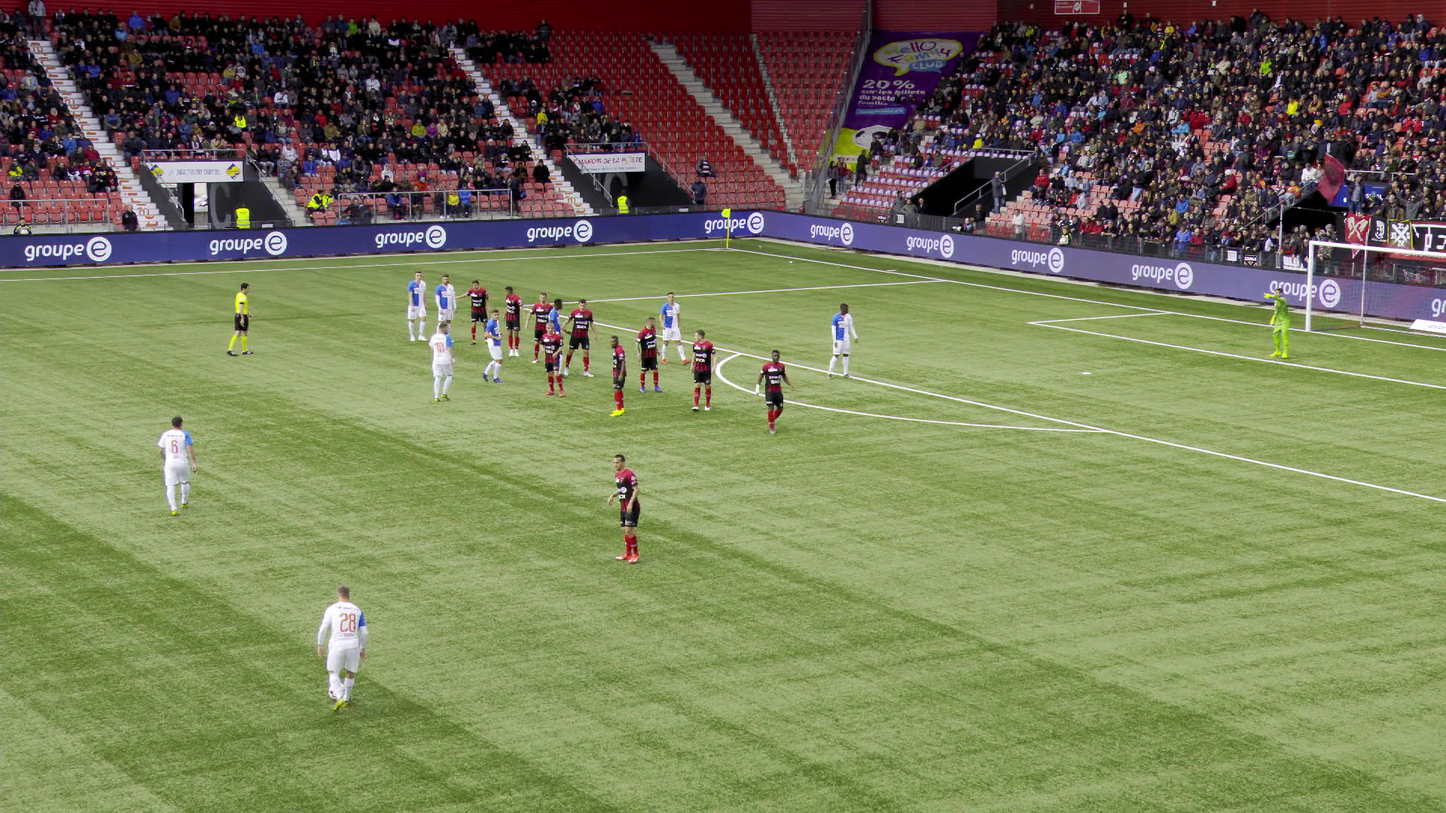ball: (328, 681, 343, 697)
player: (316, 587, 368, 711), (157, 414, 197, 513), (607, 453, 642, 563), (755, 349, 793, 434), (559, 297, 599, 377), (453, 279, 490, 345), (687, 329, 716, 411), (825, 303, 856, 379), (428, 322, 456, 402), (526, 291, 555, 362), (635, 316, 662, 392), (501, 285, 528, 356), (659, 291, 685, 363), (1263, 287, 1289, 358), (540, 321, 564, 397), (605, 334, 627, 416), (545, 297, 566, 378), (484, 307, 505, 385), (433, 274, 456, 342), (407, 269, 428, 342)
referee: (227, 282, 254, 355)
